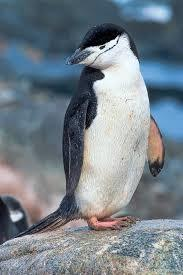chinstrap: (41, 18, 176, 249)
